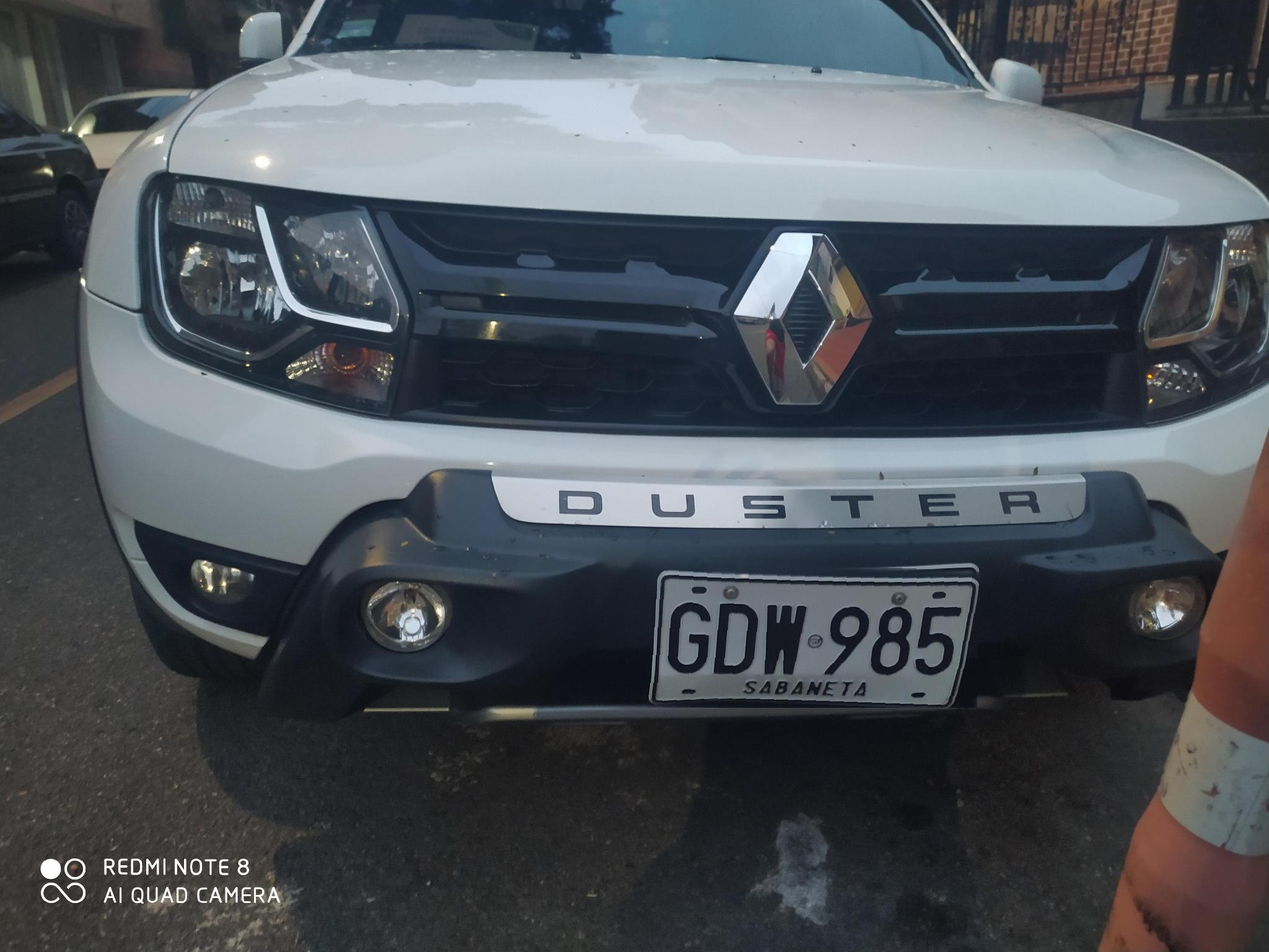placa: (644, 557, 980, 708)
